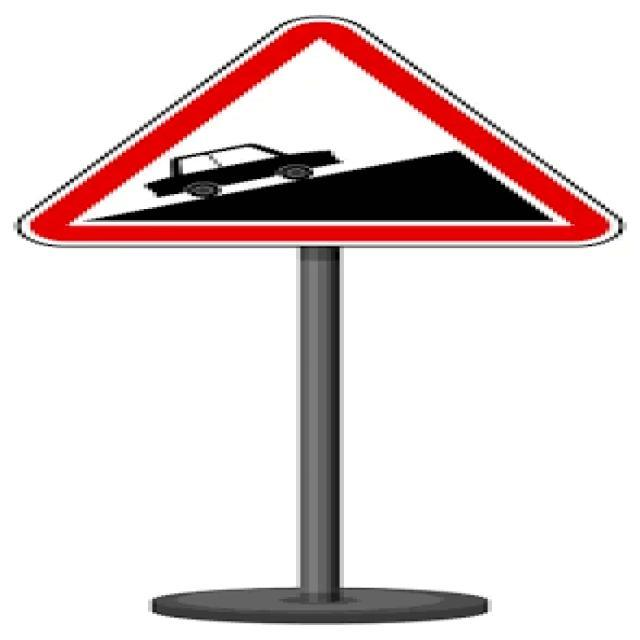steep ascent: (29, 15, 610, 244)
